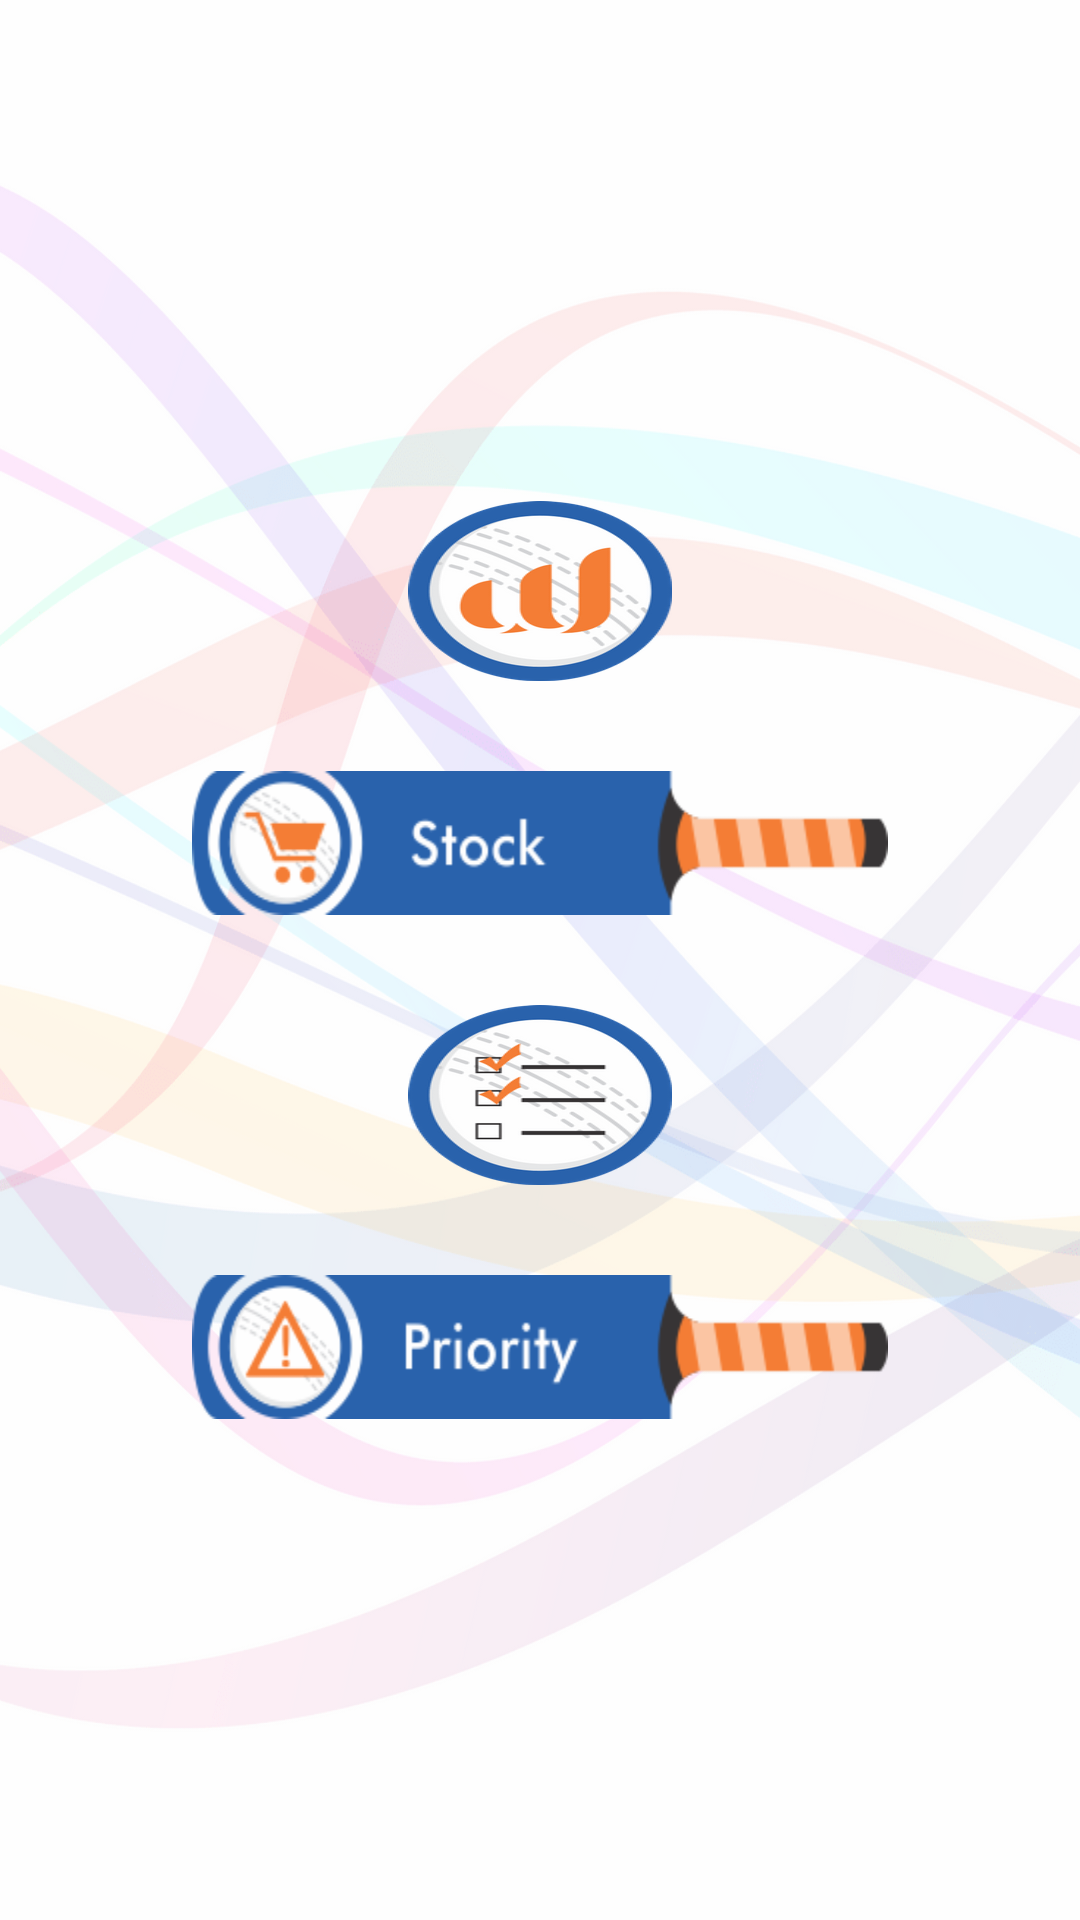

Point at icon controls on the screen. Image size 1080 x 1920, points as [x,y].
report: [540,1095]
